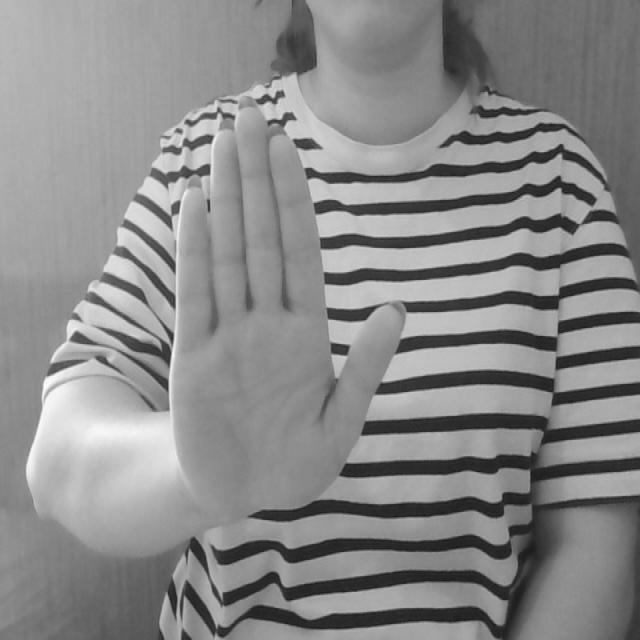Dur: (162, 95, 440, 537)
